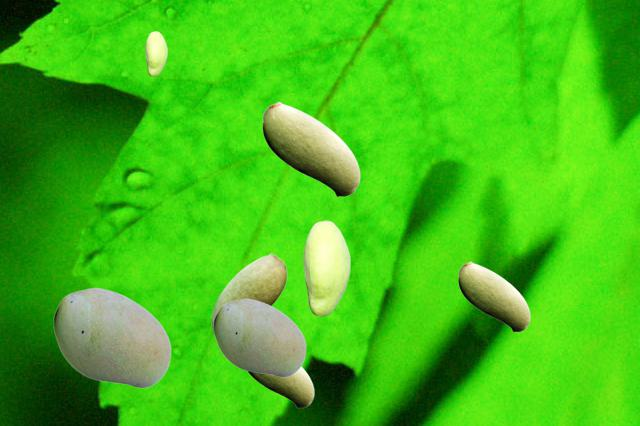green_mango: (53, 287, 170, 387), (262, 101, 359, 196), (213, 298, 305, 376), (211, 253, 286, 334), (458, 261, 529, 331), (303, 220, 349, 315), (247, 366, 313, 407), (145, 31, 166, 75)
